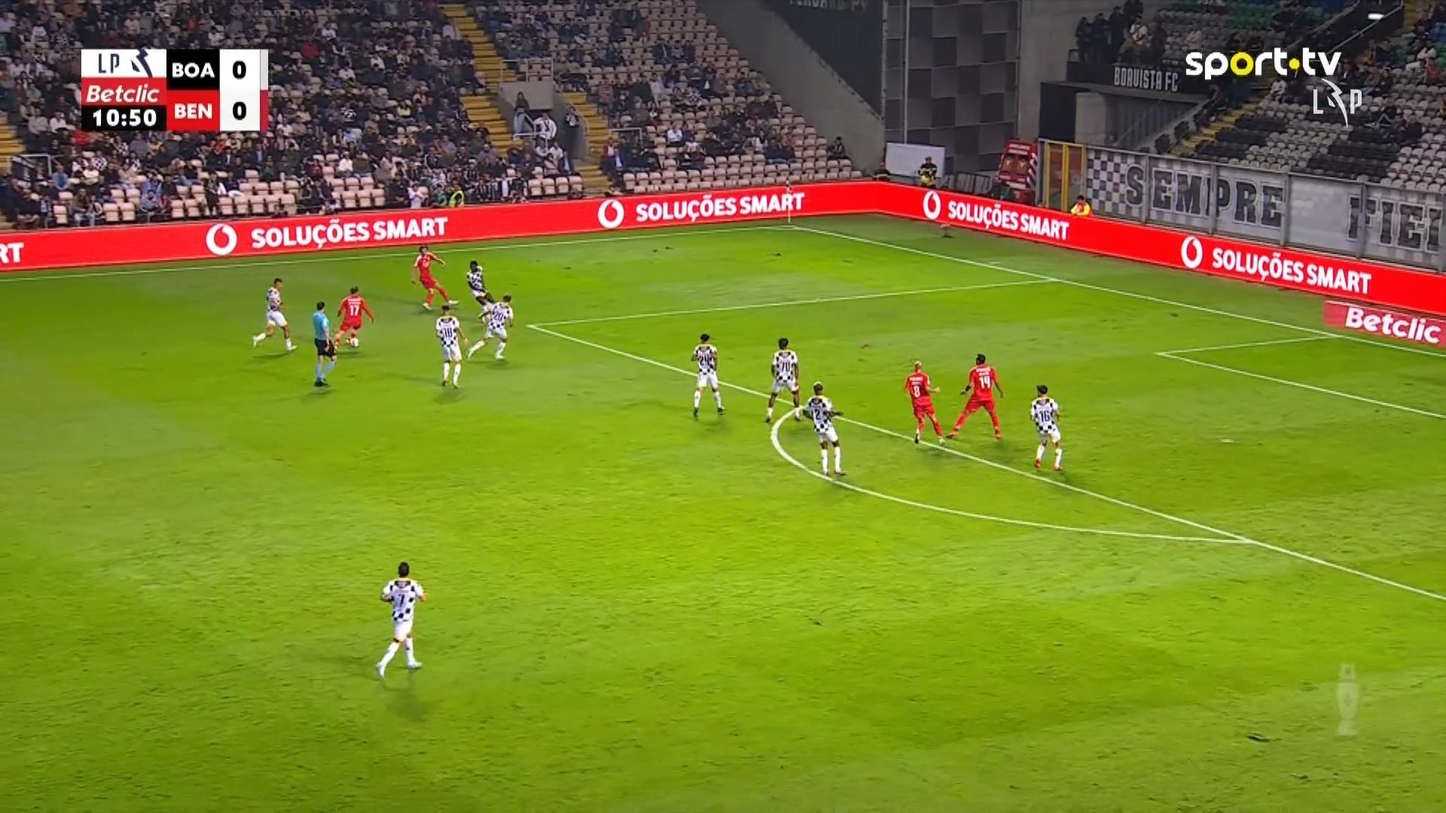ball: (348, 336, 358, 348)
player: (374, 561, 428, 677), (945, 352, 1004, 440), (805, 380, 847, 477), (903, 359, 946, 445), (250, 276, 297, 352), (465, 292, 514, 360), (764, 336, 802, 423), (689, 332, 725, 419), (1029, 383, 1063, 470), (434, 303, 467, 388), (331, 285, 374, 349), (410, 243, 450, 310), (465, 259, 491, 319)
referee: (311, 300, 337, 386)
